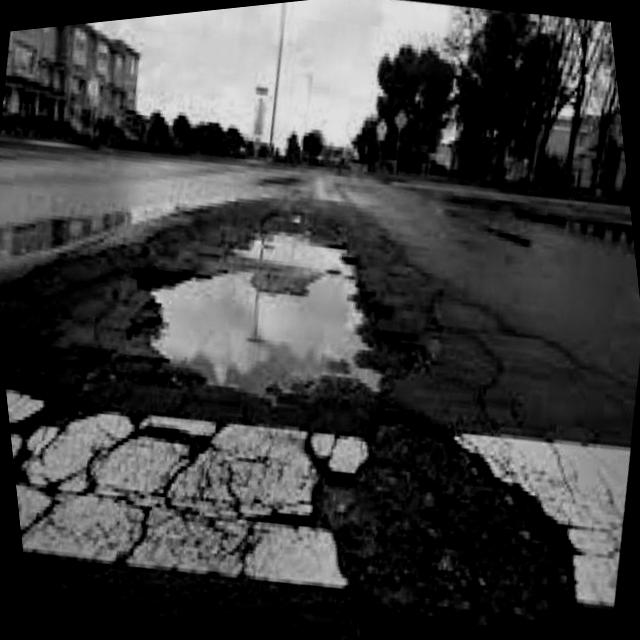Pathole: (81, 234, 430, 435)
